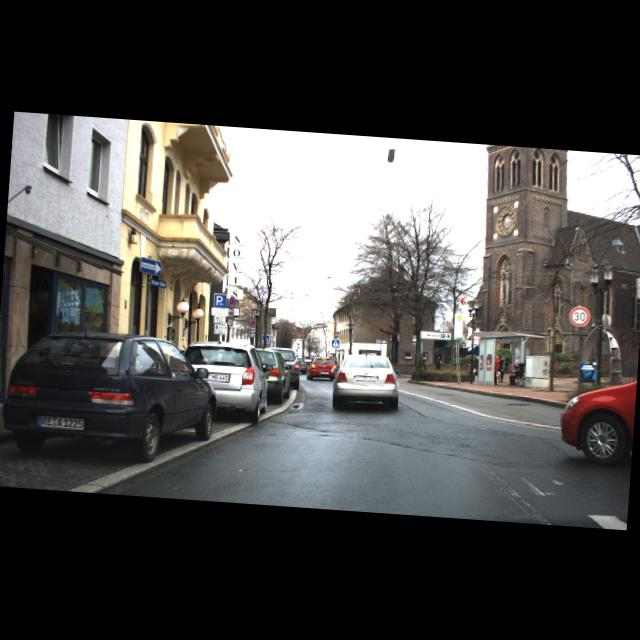prohibitory: (568, 304, 590, 326)
